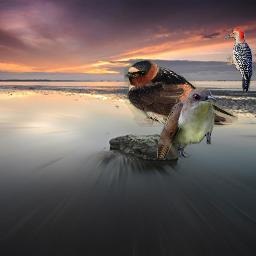Cuckoo: (157, 88, 218, 158)
Swallow: (124, 59, 238, 127)
Woodpecker: (224, 28, 253, 92)
